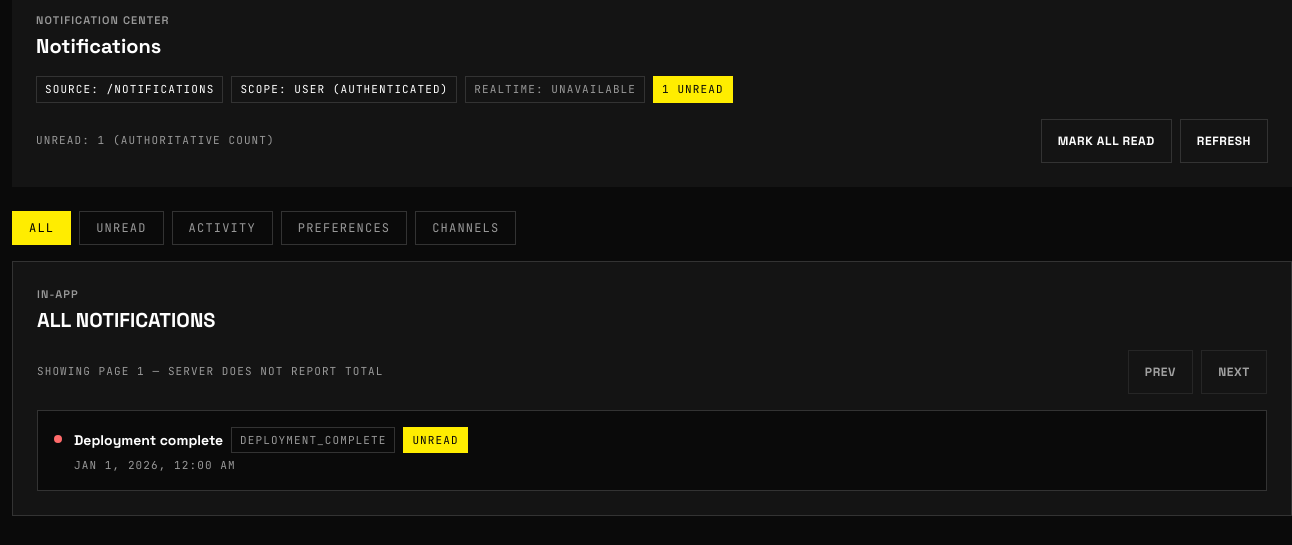
Test: Notification Center — read-only (C1) › renders channels without exposing configuration or secrets
Check: the text "Deployment complete" is shown, box [74,430,223,450]
What coordinates should you click on to do the following:
click the tab "CHANNELS"
I would click on:
 (466, 228)
Its box is [415,210,516,244].
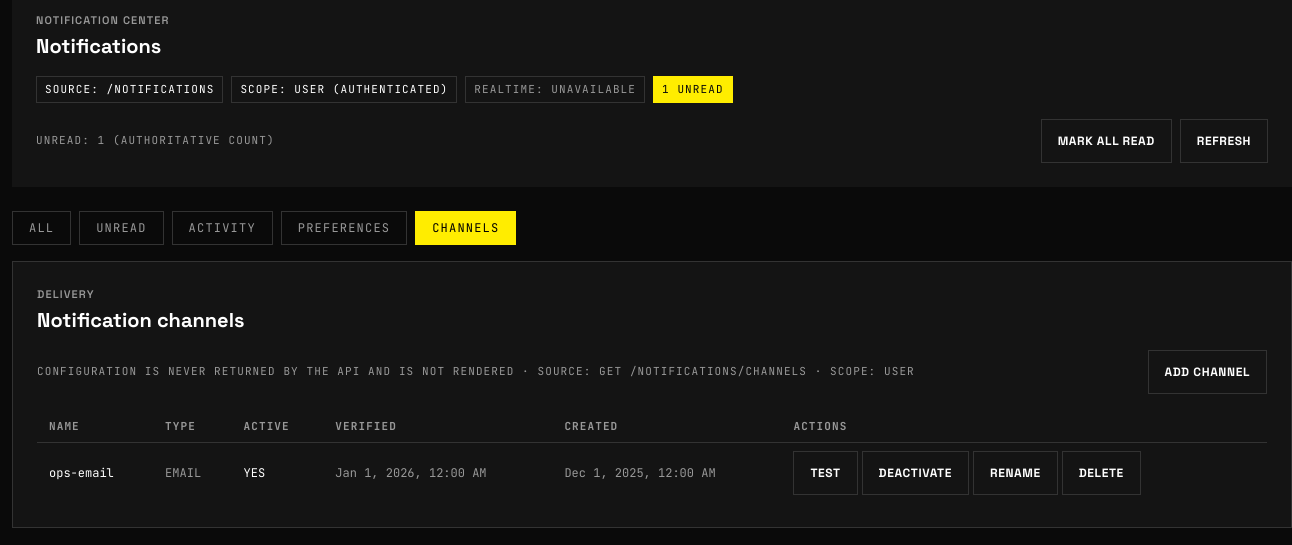
Check: the text "ops-email" is shown, box [37,442,153,503]
Check: the text "email" is shown, box [153,442,232,503]
